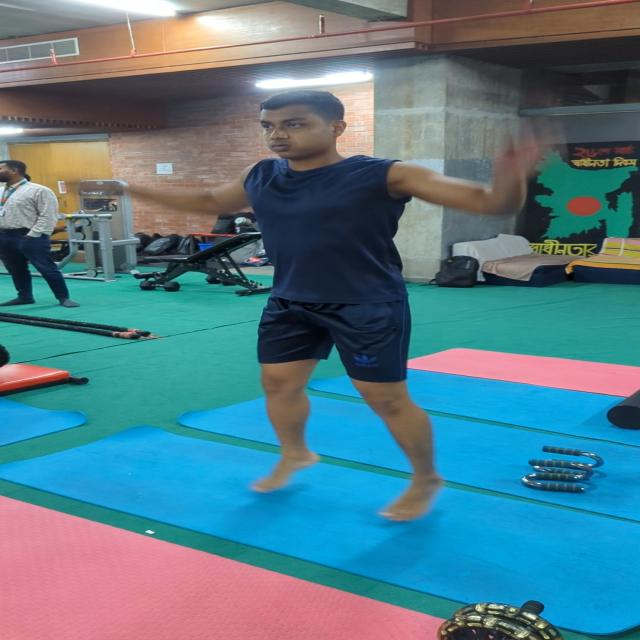Normal_JumpingJacks: (122, 59, 536, 524)
